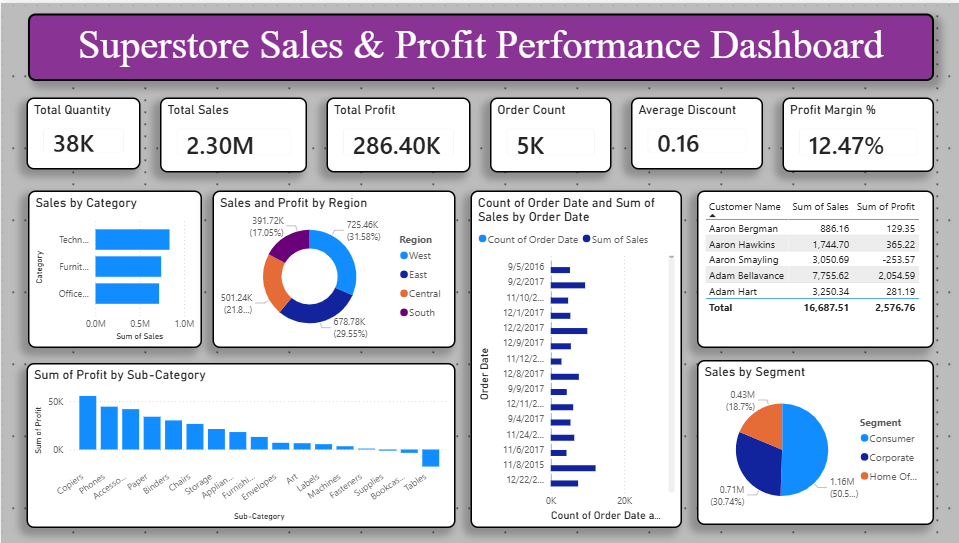

The page's visual inventory and layout, read from the dashboard file:
{"tool":"powerbi","page":{"name":"Page 1","canvas":[1280,720],"ordinal":0},"visuals":[{"type":"cardVisual","title":"Total Sales","fields":{"Data":["Sample - Superstore.Sales"]},"box":[212.1,126.1,196,100],"z":0},{"type":"cardVisual","title":"Total Profit","fields":{"Data":["Sample - Superstore.Profit"]},"box":[434.1,126.1,192,100],"z":1000},{"type":"cardVisual","title":"Total Quantity","fields":{"Data":["Sample - Superstore.Quantity"]},"box":[34,126.1,152,96],"z":2000},{"type":"cardVisual","title":"Order Count","fields":{"Data":["Sample - Superstore.Order Count"]},"box":[652.2,126.1,162,100],"z":3000},{"type":"cardVisual","title":"Average Discount","fields":{"Data":["Sample - Superstore.Avg Discount"]},"box":[840.2,126.1,176,96],"z":4000},{"type":"textbox","box":[36,14,1208,90],"z":5000},{"type":"cardVisual","title":"Profit Margin %","fields":{"Data":["Sample - Superstore.Profit Margin %"]},"box":[1042.3,126.1,202.3,99.4],"z":6000},{"type":"clusteredBarChart","title":"Sales by Category","fields":{"Y":["Sample - Superstore.Sales"],"Category":["Sample - Superstore.Category"]},"box":[36,250,232,210],"z":7000},{"type":"clusteredColumnChart","fields":{"Category":["Sample - Superstore.Sub-Category"],"Y":["Sample - Superstore.Profit"]},"box":[34,480,572,220],"z":8000},{"type":"clusteredBarChart","fields":{"Category":["Sample - Superstore.Order Date"],"Y":["Sample - Superstore.Order Date","Sample - Superstore.Sales"]},"box":[626,250,282,450],"z":9000},{"type":"donutChart","title":"Sales and Profit by Region","fields":{"Category":["Sample - Superstore.Region"],"Y":["Sample - Superstore.Sales"]},"box":[282,250,324,210],"z":10000},{"type":"tableEx","fields":{"Values":["Sample - Superstore.Customer Name","Sample - Superstore.Sales","Sample - Superstore.Profit"]},"box":[928,250,316,210],"z":11000},{"type":"pieChart","title":"Sales by Segment","fields":{"Category":["Sample - Superstore.Segment"],"Y":["Sample - Superstore.Sales"]},"box":[928,476,316,220],"z":12000}]}

Visuals, with their boxes in screenshot pixels (x1, y1, x2, y2), scaled from the page's 1280x720 canvas onto the 959x543 screenshot:
"Total Sales" cardVisual: box(159, 95, 306, 171)
"Total Profit" cardVisual: box(325, 95, 469, 171)
"Total Quantity" cardVisual: box(25, 95, 139, 168)
"Order Count" cardVisual: box(489, 95, 610, 171)
"Average Discount" cardVisual: box(629, 95, 761, 168)
textbox: box(27, 11, 932, 78)
"Profit Margin %" cardVisual: box(781, 95, 932, 170)
"Sales by Category" clusteredBarChart: box(27, 189, 201, 347)
clusteredColumnChart - Sample - Superstore.Sub-Category x Sample - Superstore.Profit: box(25, 362, 454, 528)
clusteredBarChart - Sample - Superstore.Order Date x Sample - Superstore.Order Date: box(469, 189, 680, 528)
"Sales and Profit by Region" donutChart: box(211, 189, 454, 347)
tableEx - Sample - Superstore.Customer Name x Sample - Superstore.Sales: box(695, 189, 932, 347)
"Sales by Segment" pieChart: box(695, 359, 932, 525)
